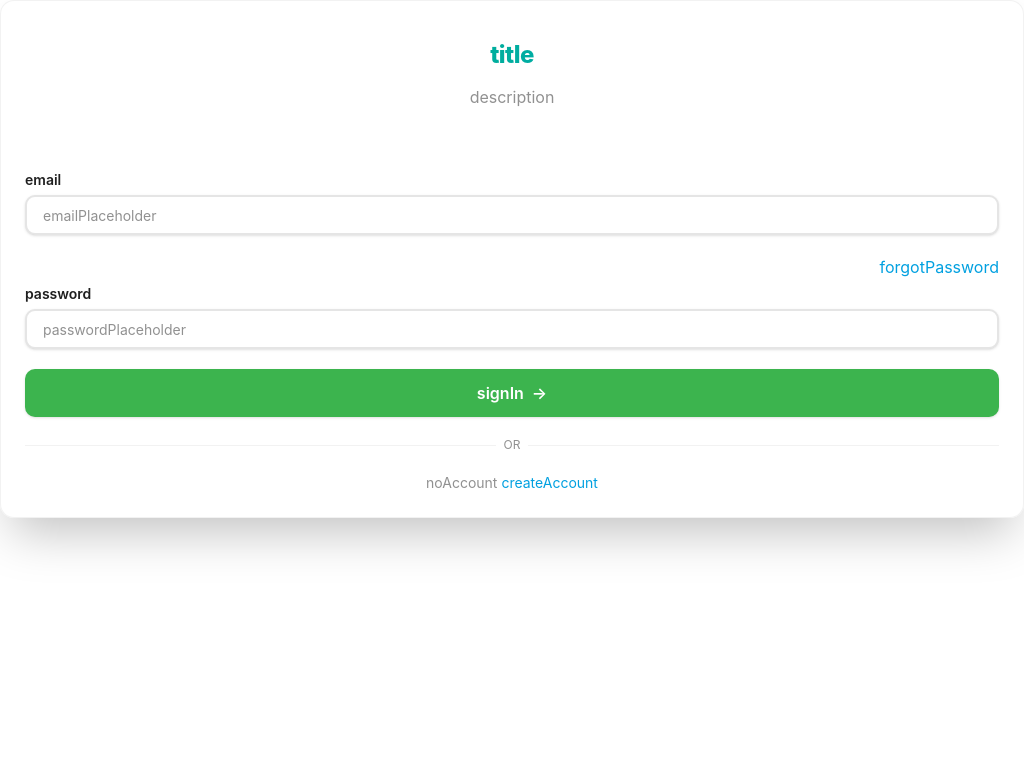
Test: LoginForm › surfaces login errors in the alert
Type "ana@example.com" into the field labelled "email".
click(512, 215); type("ana@example.com")  # box [25,195,999,235]
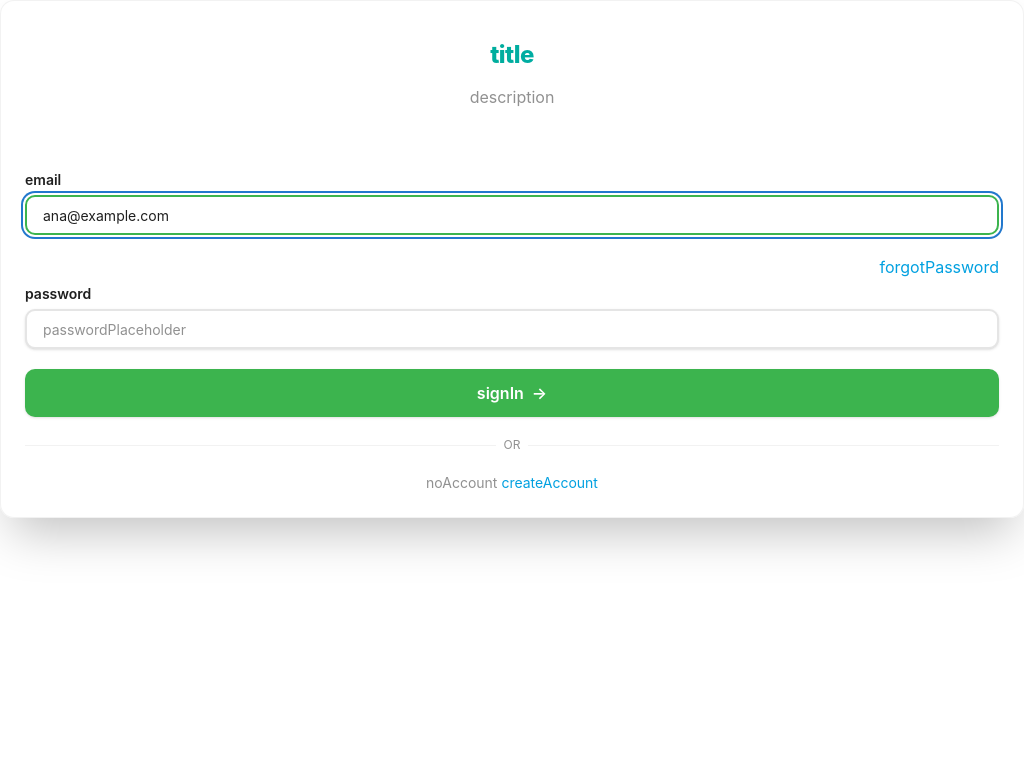
Type "secret1" into the password field labelled "password".
click(512, 329); type("secret1")  # box [25,309,999,349]
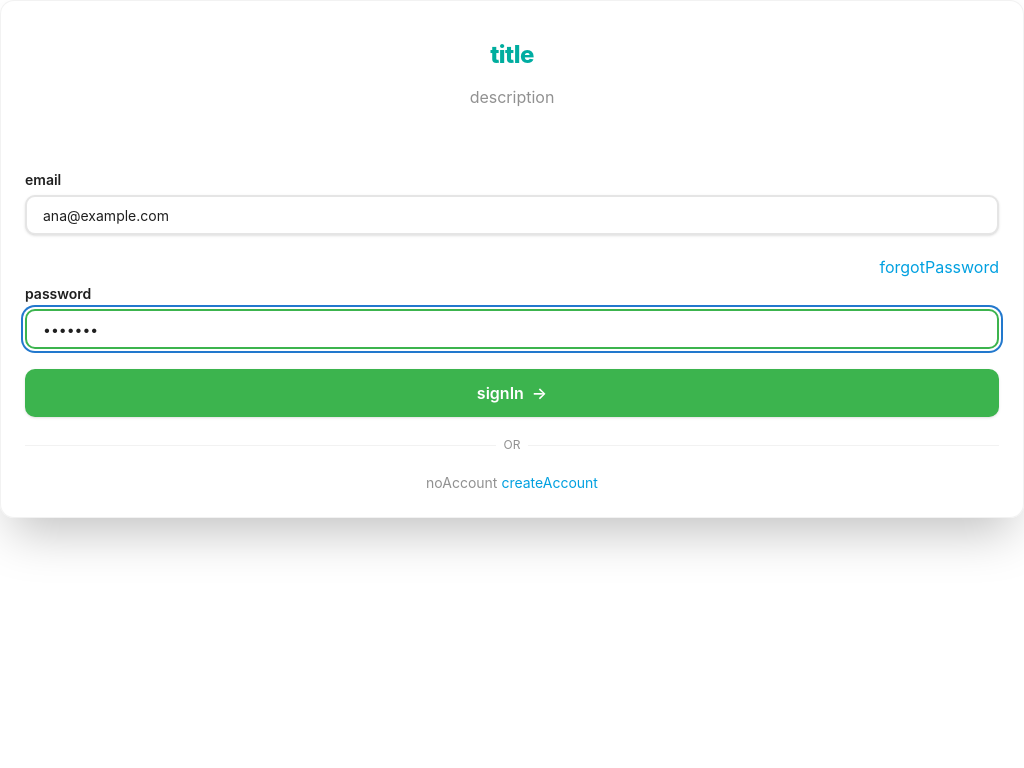
Click the button "signIn →".
click(512, 393)  # box [25,369,999,417]
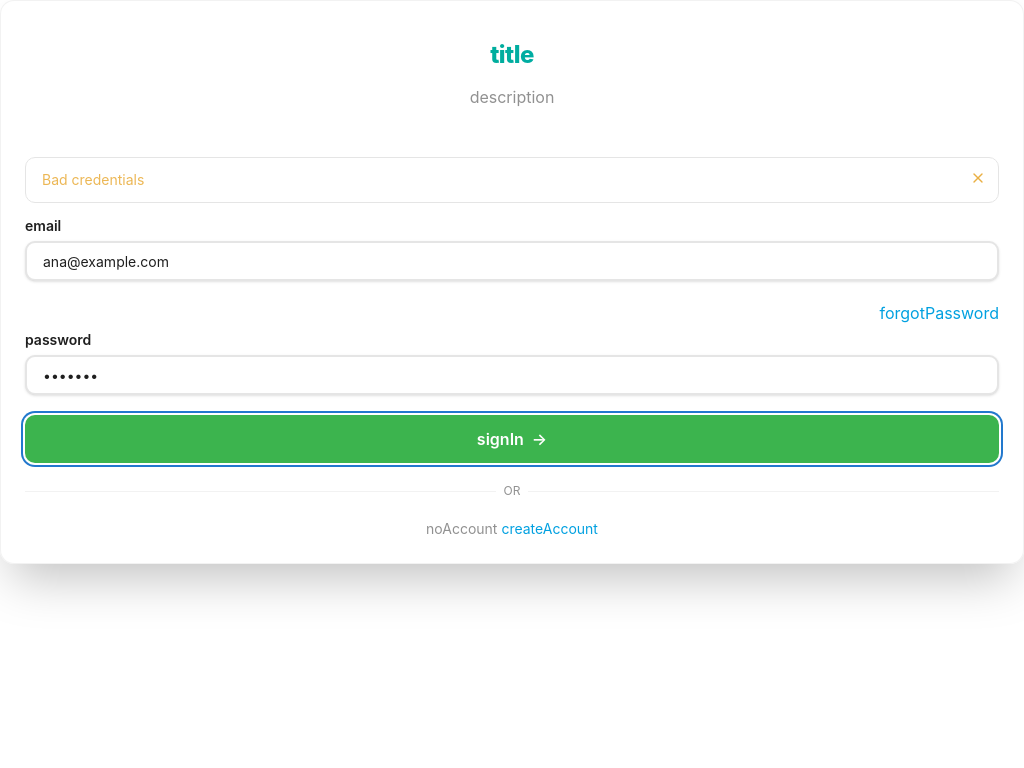
Expected: the message reads "Bad credentials", [42,171,144,188]
